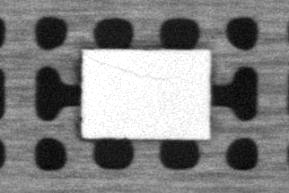DIE_CRACK: (86, 54, 173, 82)
